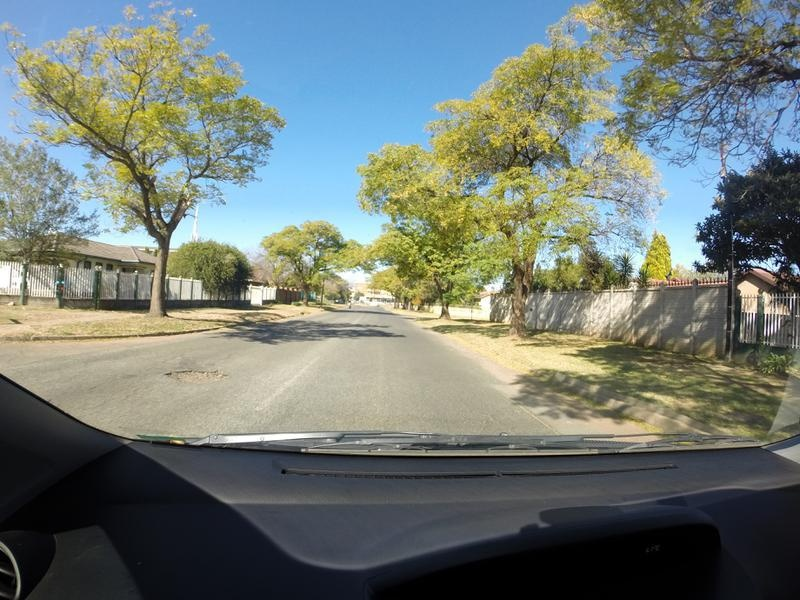pothole: (150, 360, 229, 392)
